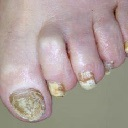Nail Fungal Infection: (13, 91, 44, 116), (54, 82, 63, 93)
